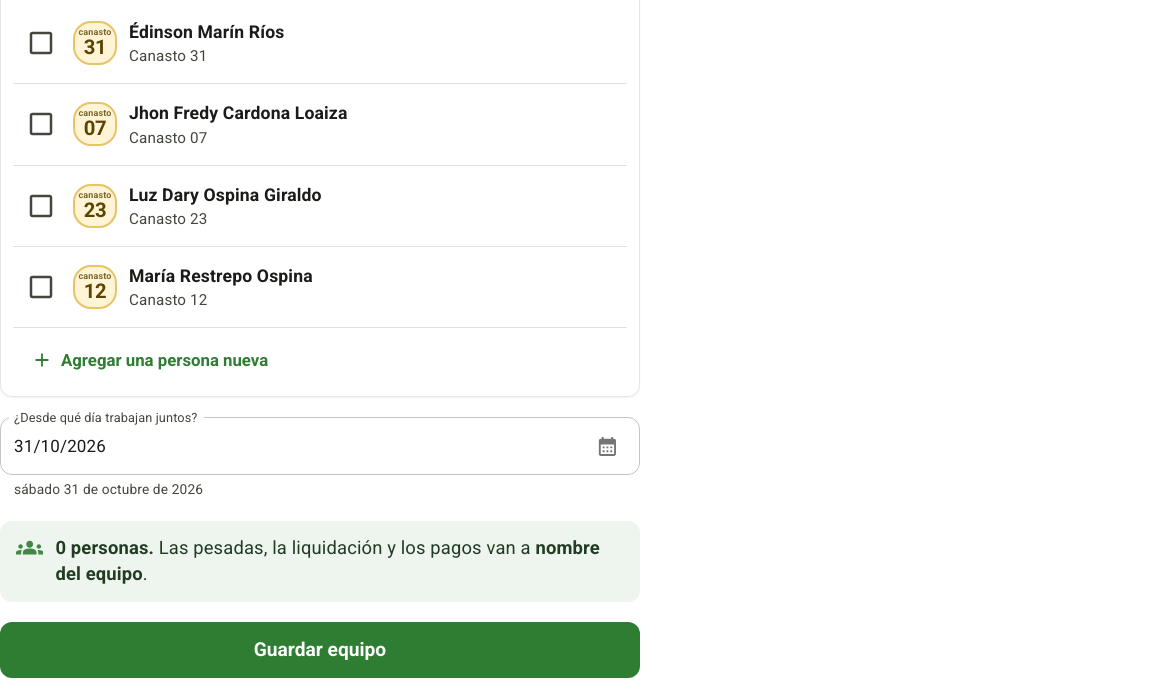
it: the new team form › shows the server's message when the new person cannot be saved
(page scrolled)
Click the button "Agregar una persona nueva" at (152, 360), box left=13, top=336, right=290, bottom=384
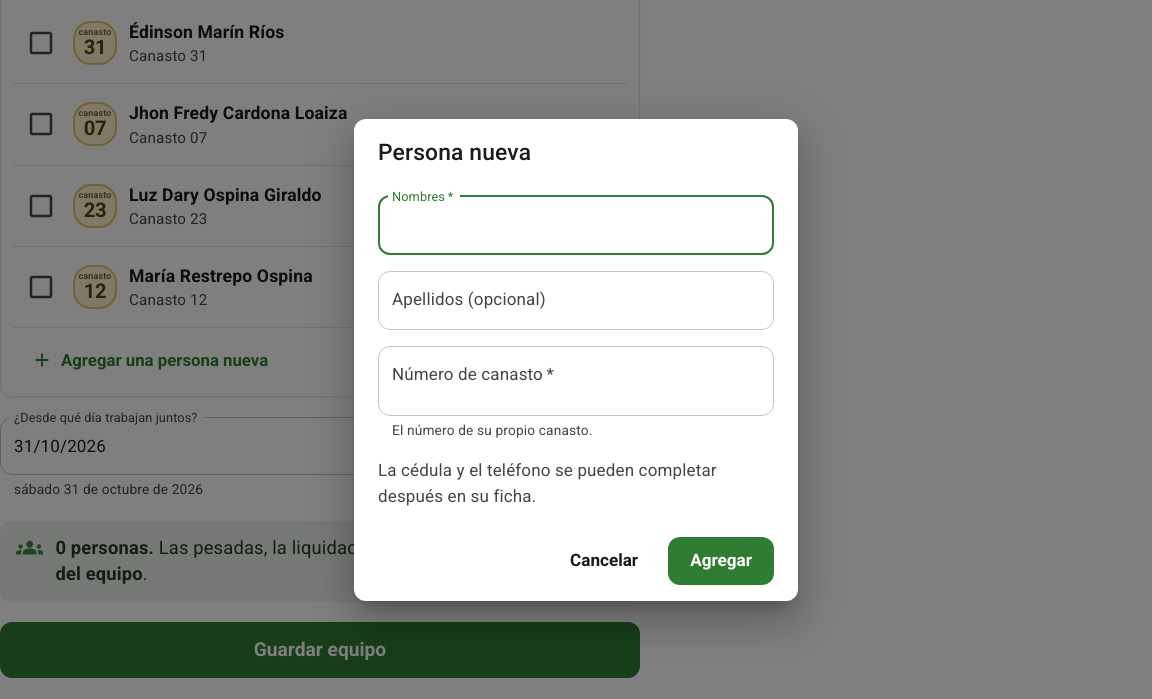
Type "Otro" into the field labelled "Nombres *" at (576, 225), box left=378, top=196, right=774, bottom=255
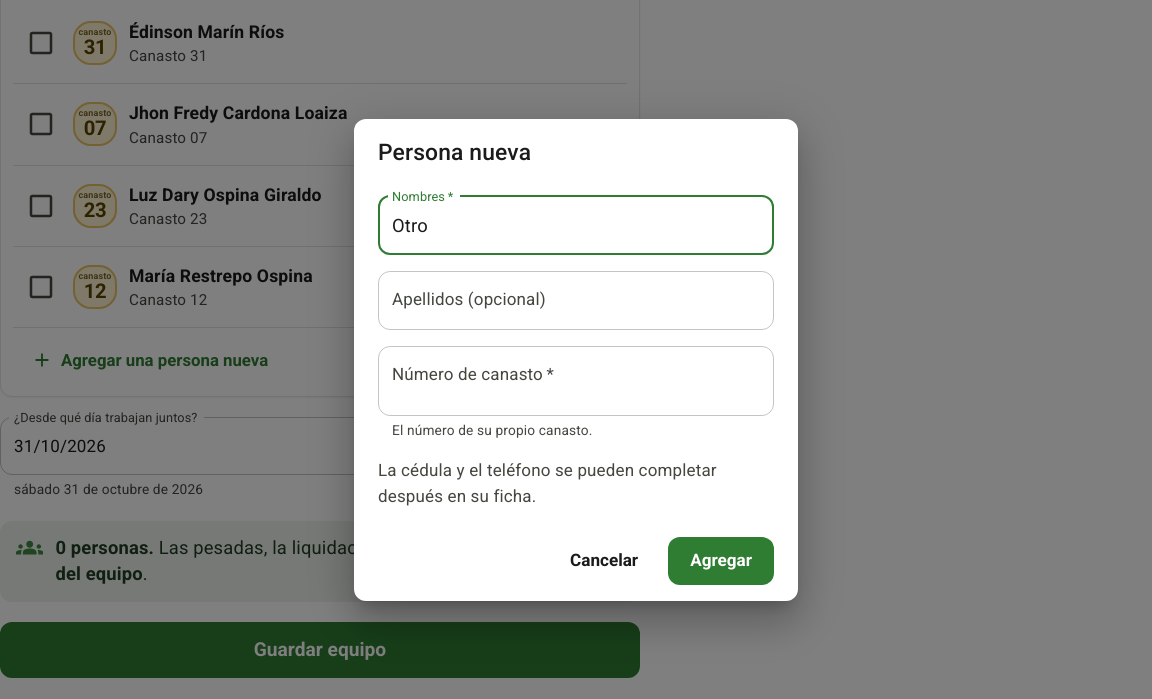
Type "981" into the field labelled "Número de canasto *" at (576, 381), box left=378, top=346, right=774, bottom=416
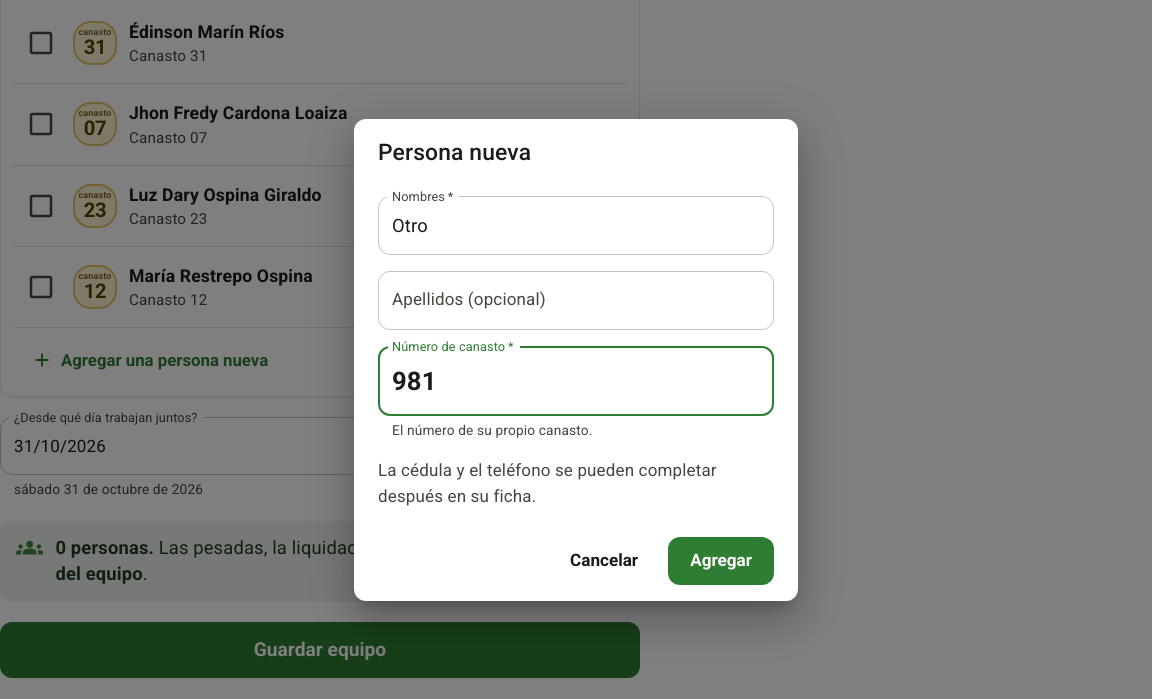
Click the button "Agregar" at (721, 561), box left=668, top=537, right=774, bottom=585
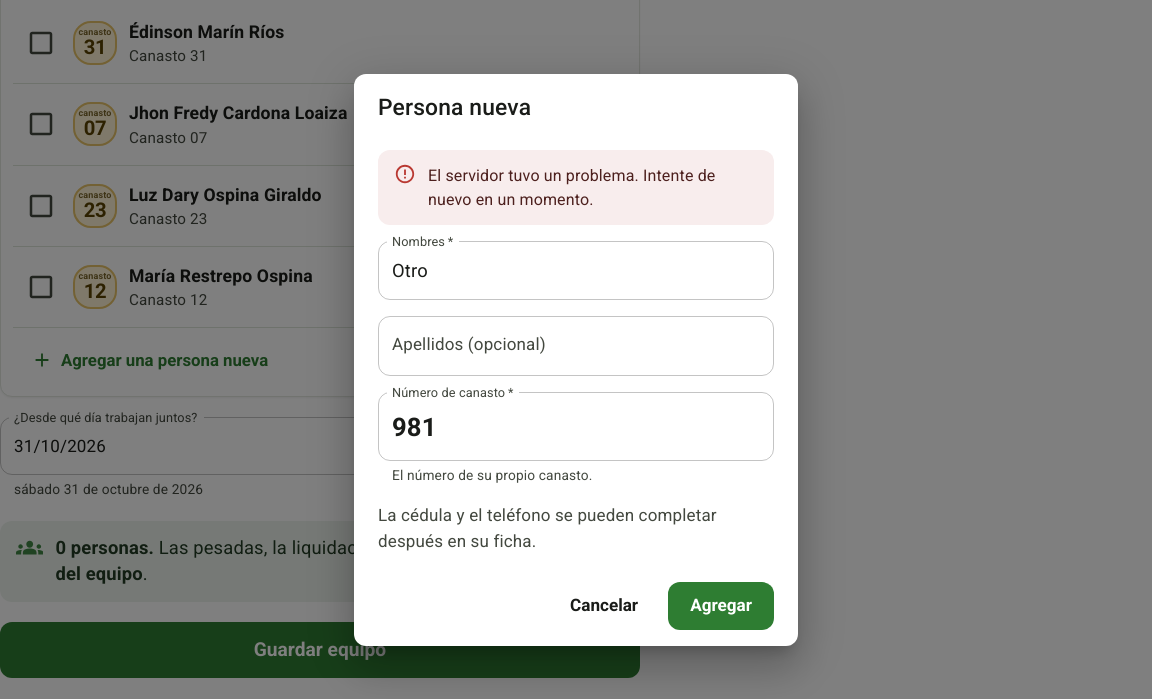
Result: the message "El servidor tuvo un problema. Intente de nuevo en un momento." is shown at left=378, top=150, right=774, bottom=225
